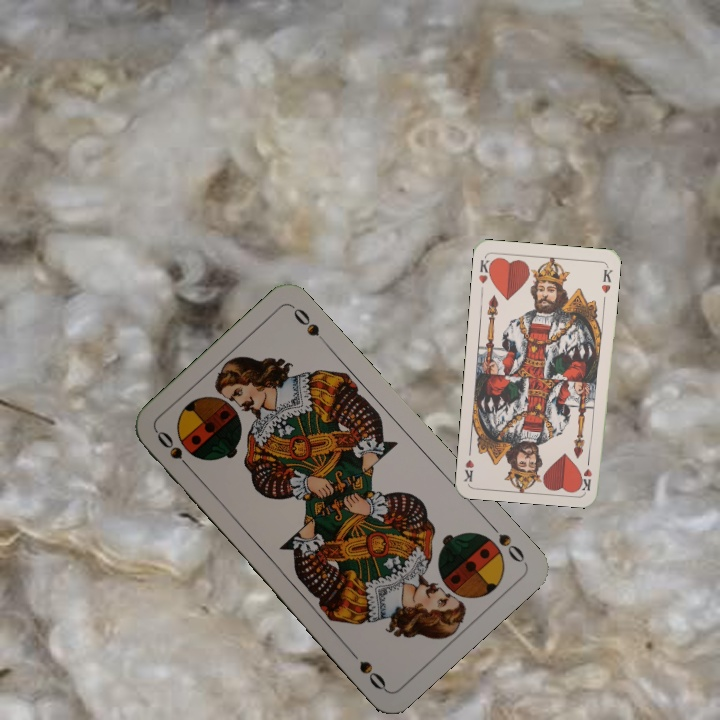HK: (475, 256, 495, 294), (579, 451, 594, 492)
SO: (152, 426, 197, 475), (484, 518, 528, 566)
